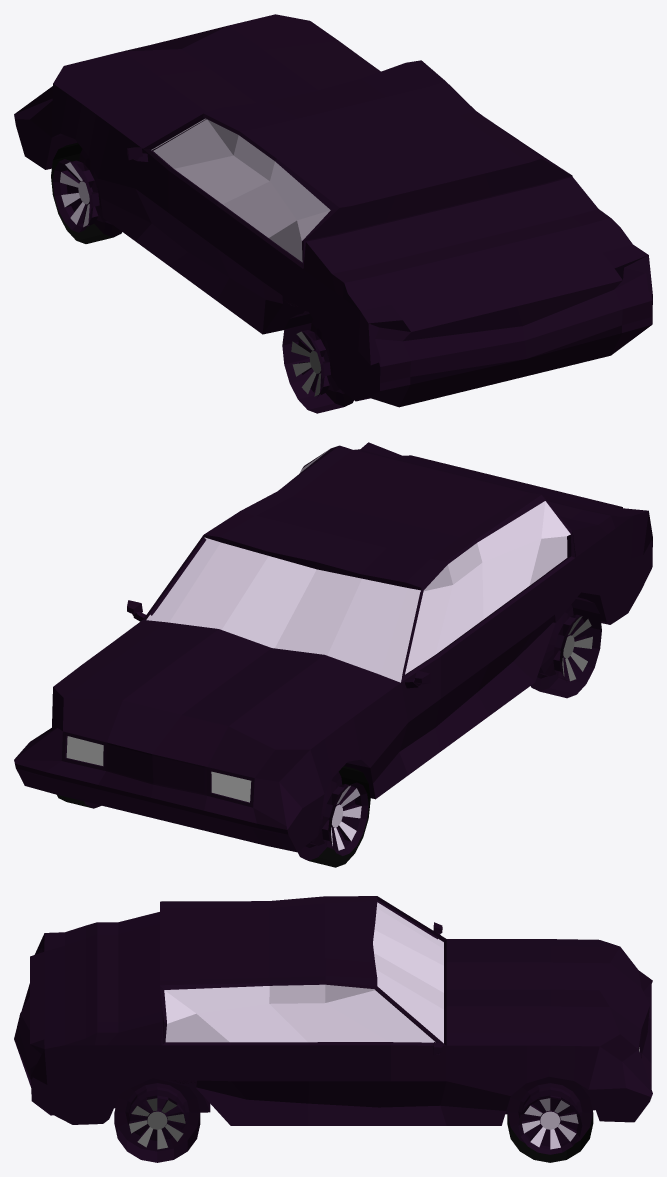
File: BroomBroom2.fbx
3 views of the same model, one above another, from view 1: azimuth 30°, elevation 25°; view 2: azimuth 150°, elevation 25°; view 3: azimuth 270°, elevation 25° (orthographic). The views are drawn at different scales.
Visible parts, largest first — view 1: Cube; view 2: Cube; view 3: Cube.
Boxes of the visible parts, x1,y1,x2,y2 form: Cube: [14, 14, 652, 413]; Cube: [14, 442, 652, 867]; Cube: [14, 896, 652, 1162].
Size of what is drawn, in the model's own units: 181 by 114 by 392.
